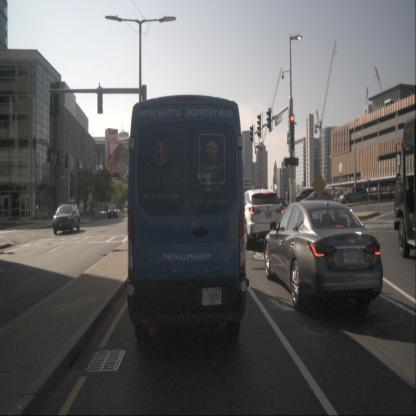human-pedestrian-adult: (285, 188, 291, 213)
movable_object-trafficcone: (334, 196, 337, 204)
vehicle-car: (127, 94, 246, 346), (264, 200, 384, 311), (230, 186, 286, 250), (52, 204, 81, 235), (292, 187, 328, 210), (338, 186, 370, 208), (302, 191, 333, 210), (107, 204, 118, 219)
vehicle-truck: (393, 115, 415, 260)
